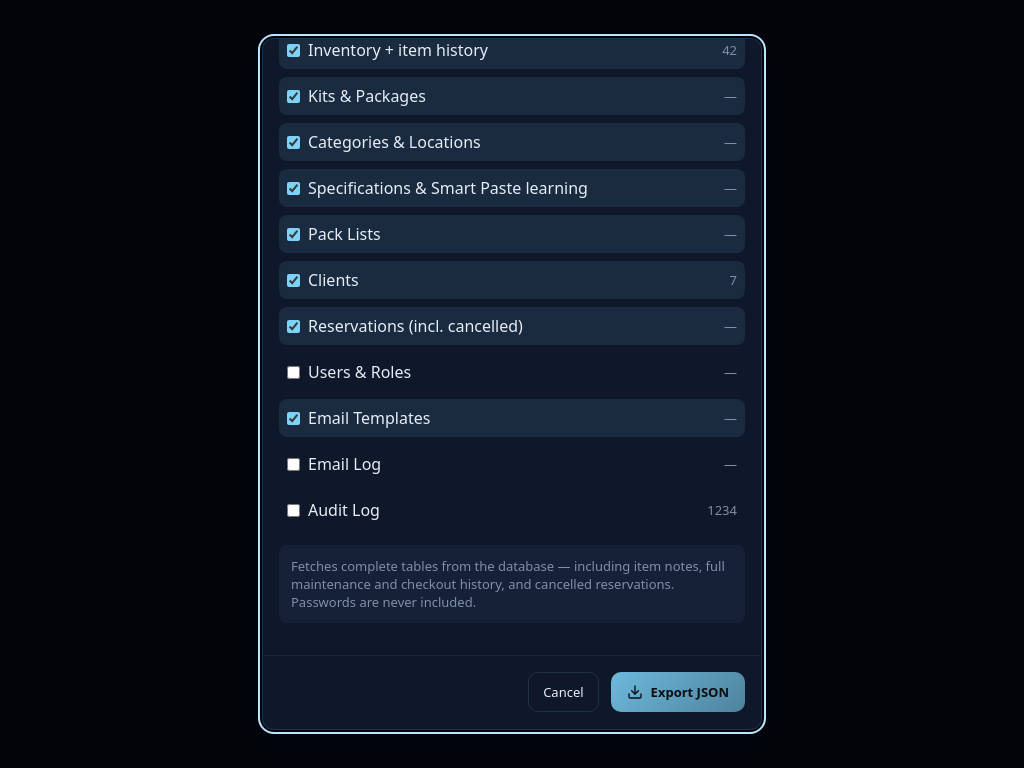
Test: DatabaseExportModal › fetch failure keeps the modal open with an honest error
Expected: the text "7" is shown, top-left (730, 271), bottom-right (737, 289)
Click the button "Export JSON" at [678, 692], box top-left (611, 672), bottom-right (745, 712)
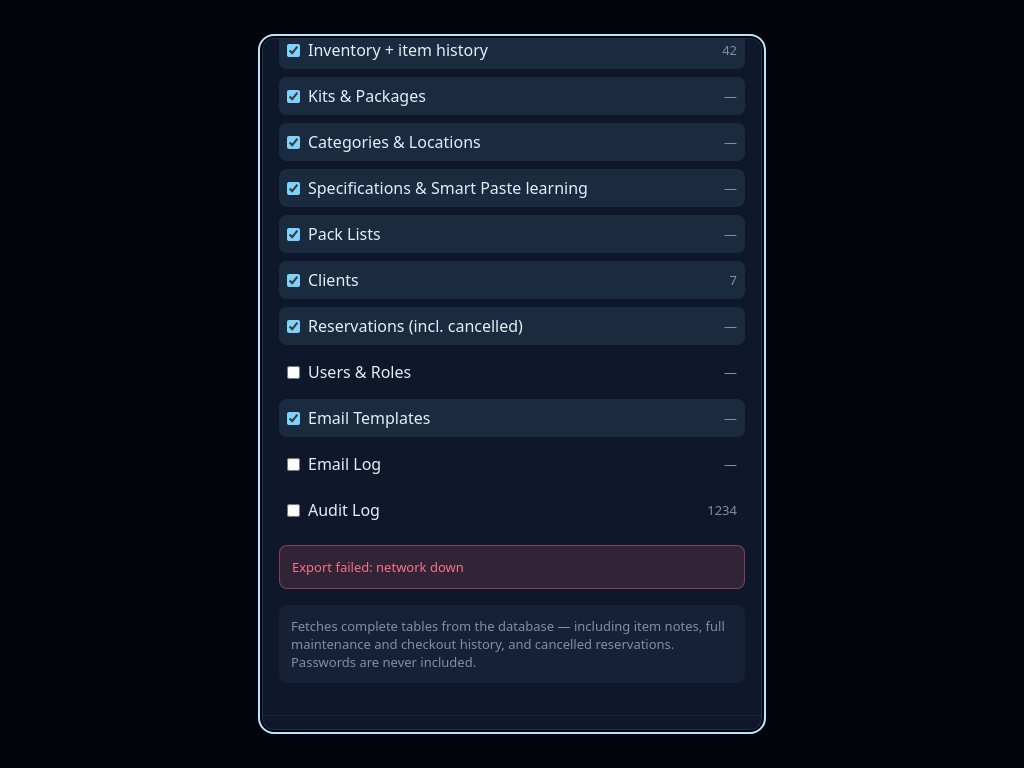
Now the message reads "Export failed: network down", box top-left (292, 558), bottom-right (464, 576)
